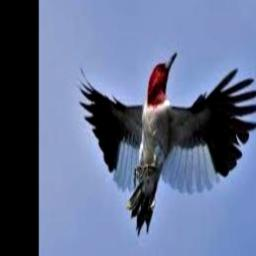Woodpecker: (78, 53, 256, 235)
